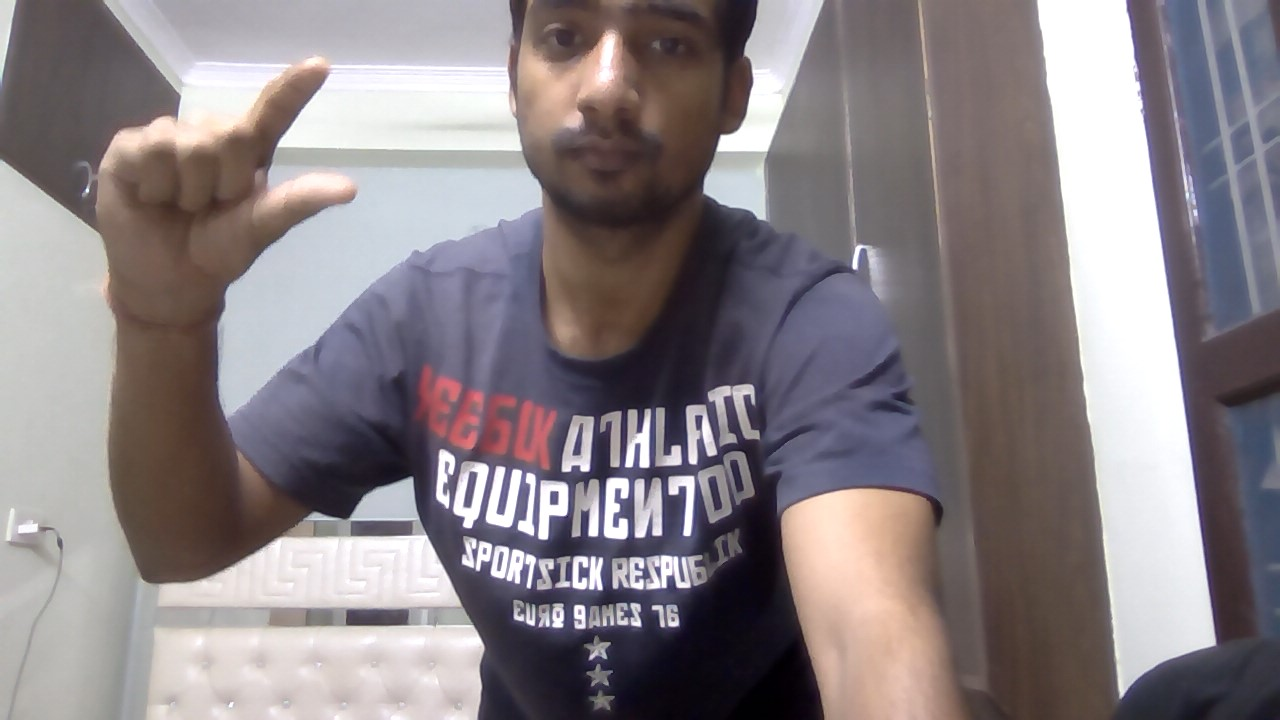Paste: (81, 42, 386, 322)
